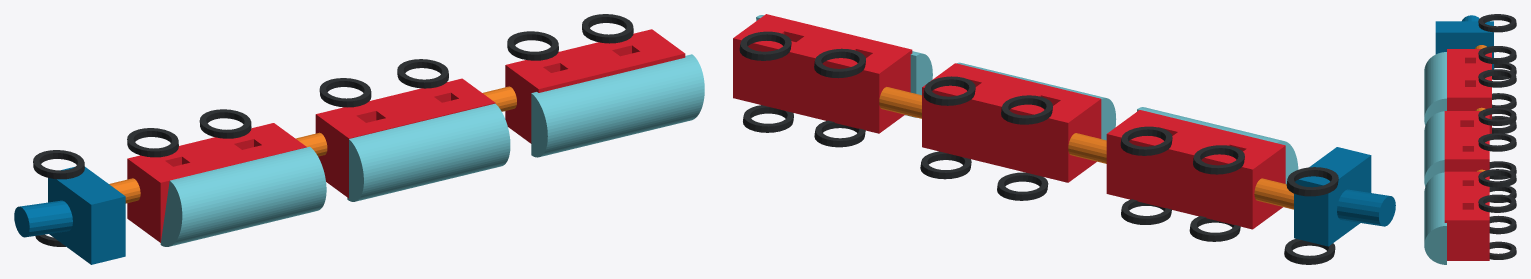
File: tinker.obj
The picture shows the model from 3 angles, left to right: view 1: azimuth 30°, elevation 25°; view 2: azimuth 150°, elevation 25°; view 3: azimuth 270°, elevation 25°; orthographic projection. The views are drawn at different scales.
Visible parts, largest first — view 1: group_0_7720667, group_0_15277357, group_0_2829873, group_0_30377, group_0_16089887; view 2: group_0_15277357, group_0_2829873, group_0_30377, group_0_16089887, group_0_7720667; view 3: group_0_15277357, group_0_2829873, group_0_7720667, group_0_30377, group_0_16089887.
Boxes of the visible parts, x1,y1,x2,y2 form: group_0_7720667: (160,54,704,246); group_0_15277357: (127,29,685,242); group_0_2829873: (33,14,633,246); group_0_30377: (14,166,125,264); group_0_16089887: (109,86,516,203); group_0_15277357: (733,14,1285,229); group_0_2829873: (739,31,1338,264); group_0_30377: (1294,147,1395,246); group_0_16089887: (879,87,1293,209); group_0_7720667: (756,15,1298,184); group_0_15277357: (1444,49,1491,260); group_0_2829873: (1478,14,1516,259); group_0_7720667: (1424,52,1446,264); group_0_30377: (1435,15,1493,69); group_0_16089887: (1475,45,1486,171).
Bounding box in the file's own units: 227 × 28.32 × 41.
